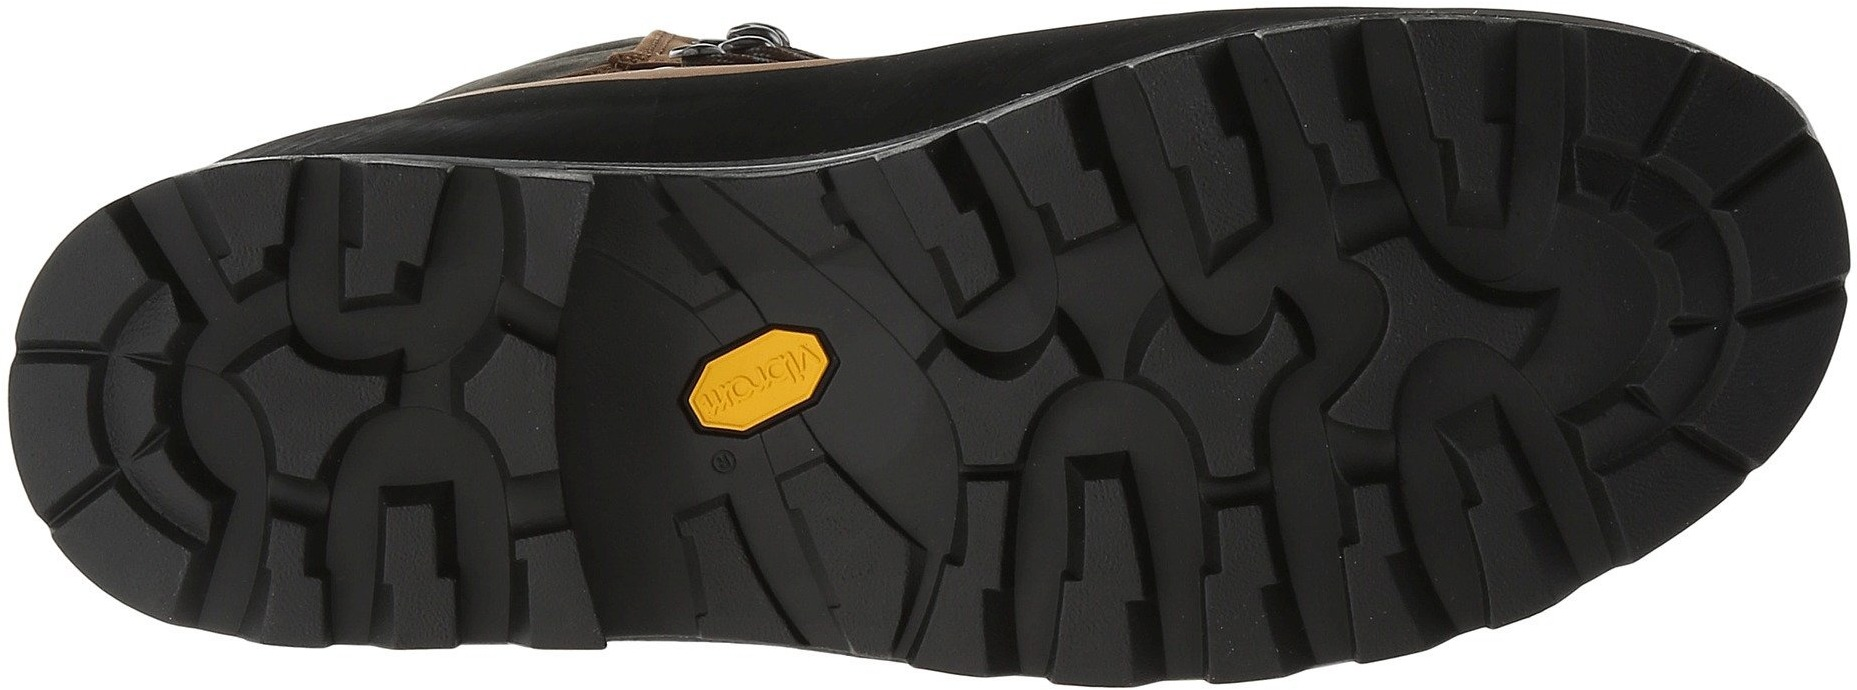exclude: (554, 180, 699, 644)
quad: (195, 162, 595, 307), (912, 470, 1143, 686), (261, 505, 605, 647)
